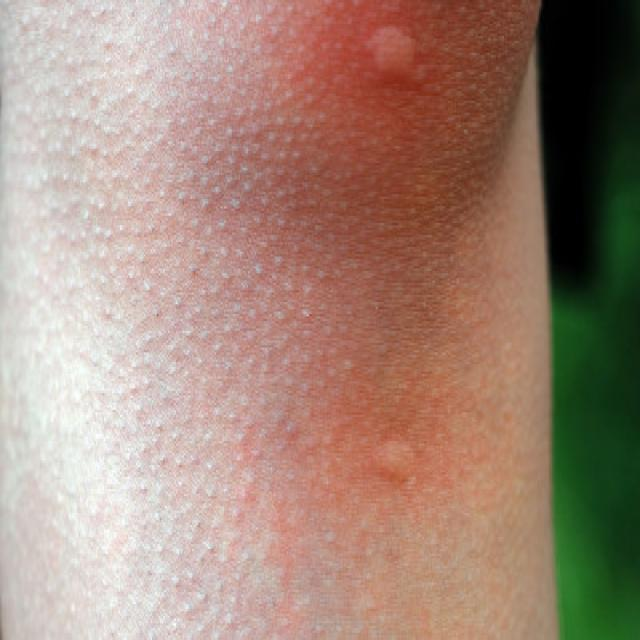sinek: (346, 12, 447, 116), (355, 411, 435, 510)
